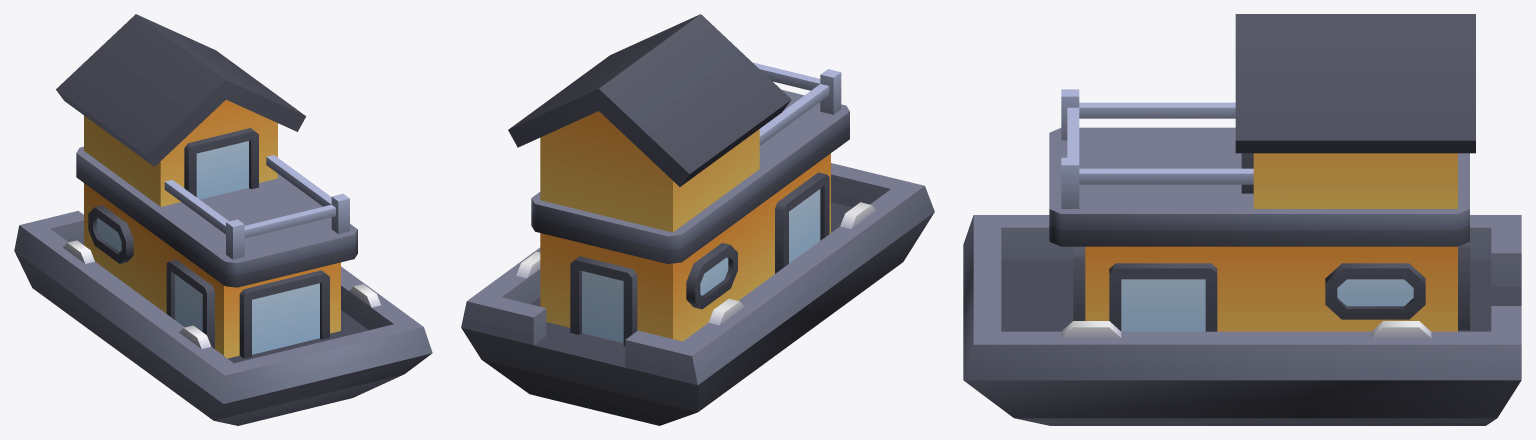
The model's file is boat-house-d.glb.
3 views of the same model, side by side, from view 1: azimuth 30°, elevation 25°; view 2: azimuth 150°, elevation 25°; view 3: azimuth 270°, elevation 25° (orthographic). The views are drawn at different scales.
Visible parts, largest first — view 1: boat-house-d; view 2: boat-house-d; view 3: boat-house-d.
Part boxes in pixels (left/top/right/bottom): boat-house-d: left=14, top=14, right=432, bottom=425; boat-house-d: left=461, top=14, right=934, bottom=425; boat-house-d: left=963, top=14, right=1521, bottom=425.
Size of the model in its own units: 2.68 by 3.44 by 4.64.
Materials: 1 (1 with a texture image).
